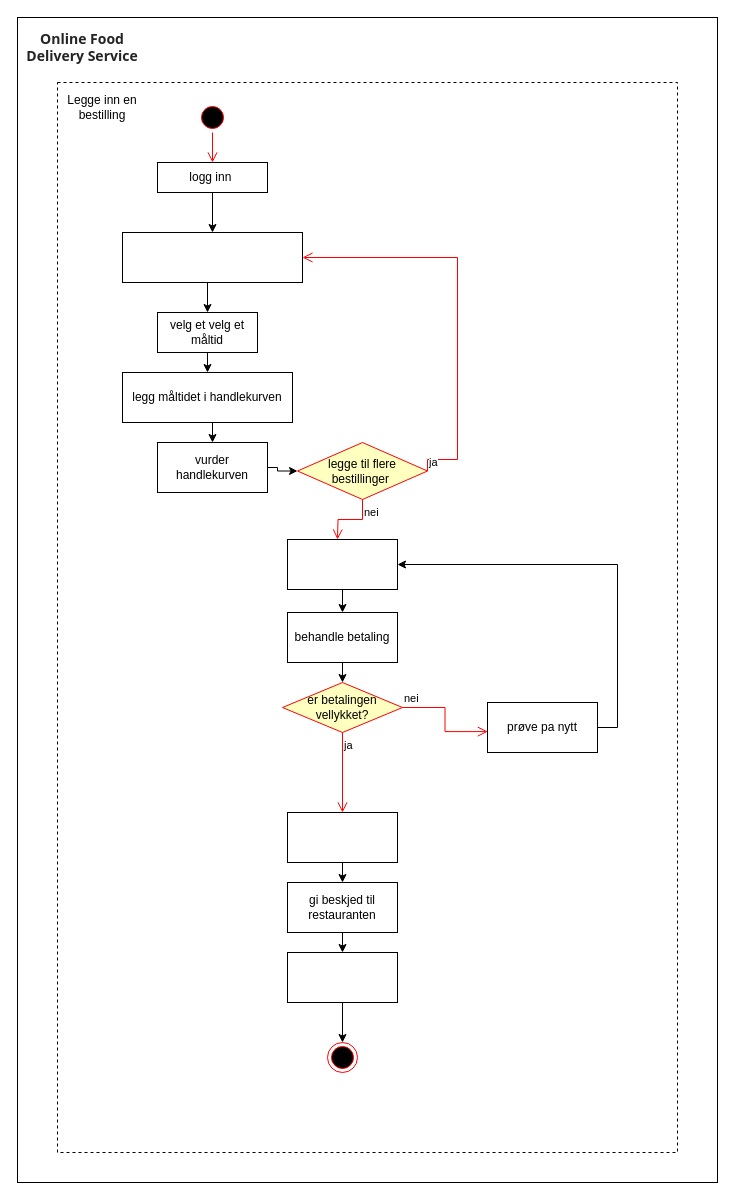
Image size: 735x1200. Some labels were removed from this diagram. Here are the shapes that lost their labels. From the top down, the box of each, then its label:
(122, 232, 302, 282): ba gjennom restauranter og menyer
(286, 538, 398, 590): velg betalingsmetode
(286, 812, 398, 862): bekreft bestilling
(286, 952, 398, 1002): send ordebekreftelse til kunden
